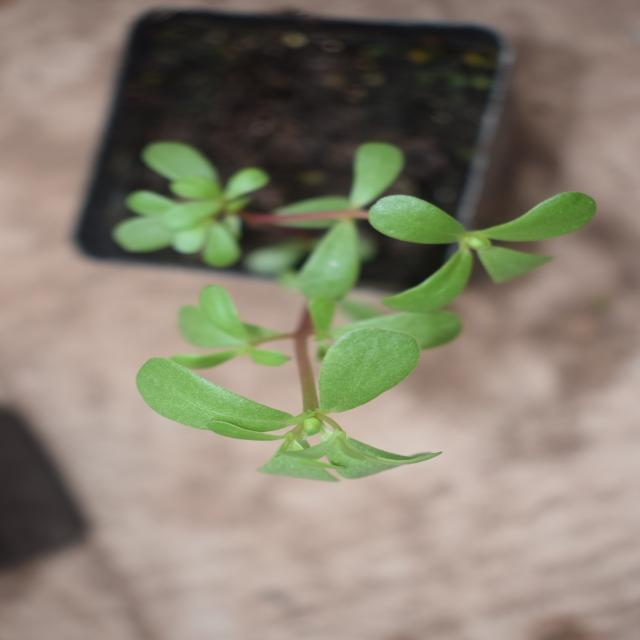purslane: (150, 117, 468, 591)
